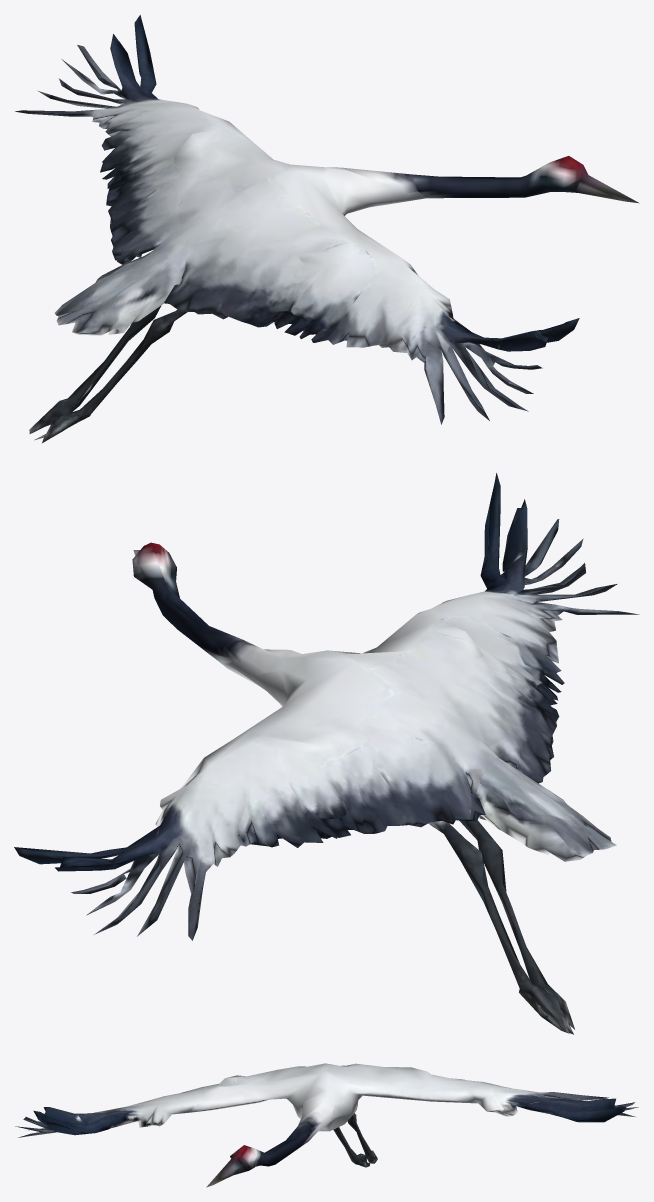
File: crane.lod1.glb
The picture shows the model from 3 angles, top to bottom: view 1: azimuth 30°, elevation 25°; view 2: azimuth 150°, elevation 25°; view 3: azimuth 270°, elevation 25°; orthographic projection. The views are drawn at different scales.
Parts seen in each view (by area): view 1: tripo_node_d632da0b-43c4-4fd0-9b70-d9adb77184bb; view 2: tripo_node_d632da0b-43c4-4fd0-9b70-d9adb77184bb; view 3: tripo_node_d632da0b-43c4-4fd0-9b70-d9adb77184bb.
Part boxes in pixels (x1,y1,x2,y2): tripo_node_d632da0b-43c4-4fd0-9b70-d9adb77184bb: [15, 15, 639, 442]; tripo_node_d632da0b-43c4-4fd0-9b70-d9adb77184bb: [14, 473, 639, 1034]; tripo_node_d632da0b-43c4-4fd0-9b70-d9adb77184bb: [15, 1063, 638, 1187].
Size of the model in its own units: 0.6367 by 0.2972 by 0.9955.
Materials: 1 (1 with a texture image).
